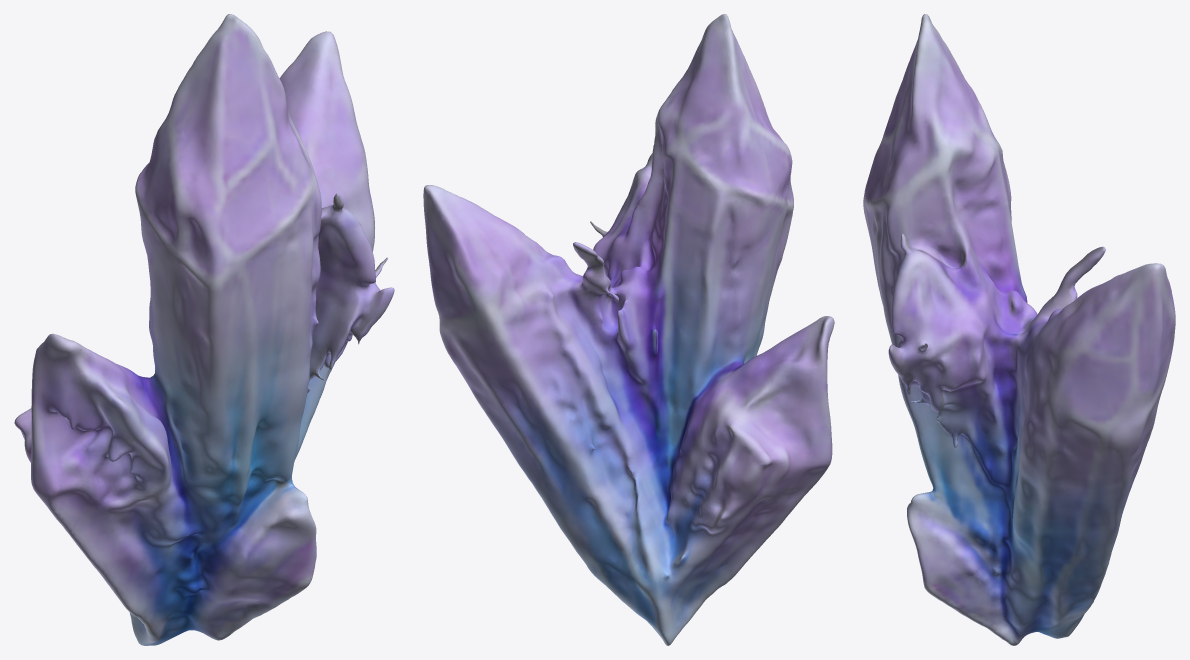
Rendered from crystal.glb.
3 renders of one model, left to right at view 1: azimuth 30°, elevation 25°; view 2: azimuth 150°, elevation 25°; view 3: azimuth 270°, elevation 25°, orthographic. The views are drawn at different scales.
Visible parts, largest first — view 1: world; view 2: world; view 3: world.
Part boxes in pixels (x1=…): world: x1=14, y1=14, x2=394, y2=645; world: x1=423, y1=14, x2=834, y2=645; world: x1=863, y1=14, x2=1175, y2=645.
Bounding box in the file's own units: 0.3472 × 0.5815 × 0.2625.
1 material, 1 textured.
